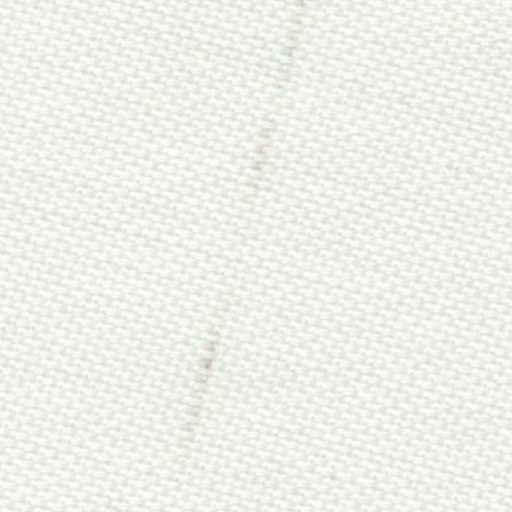WuZi: (168, 7, 312, 466)
